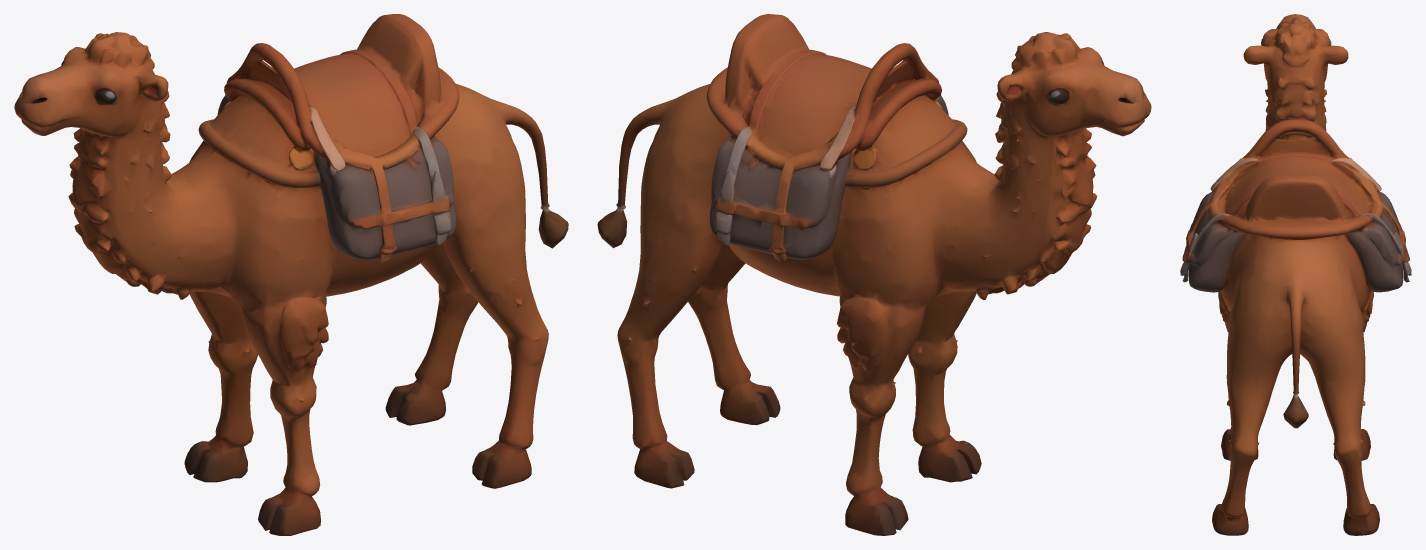
Rendered from camel.glb.
The picture shows the model from 3 angles, left to right: view 1: azimuth 30°, elevation 25°; view 2: azimuth 150°, elevation 25°; view 3: azimuth 270°, elevation 25°; orthographic projection. The views are drawn at different scales.
Parts seen in each view (by area): view 1: tripo_node_62d40a25-1c22-4a0d-becd-0e6309f8350a; view 2: tripo_node_62d40a25-1c22-4a0d-becd-0e6309f8350a; view 3: tripo_node_62d40a25-1c22-4a0d-becd-0e6309f8350a.
Boxes of the visible parts, left/top/right/bottom form: tripo_node_62d40a25-1c22-4a0d-becd-0e6309f8350a: left=14, top=14, right=568, bottom=535; tripo_node_62d40a25-1c22-4a0d-becd-0e6309f8350a: left=597, top=14, right=1151, bottom=535; tripo_node_62d40a25-1c22-4a0d-becd-0e6309f8350a: left=1180, top=14, right=1411, bottom=535.
Size of the model in its own units: 1 by 0.8712 by 0.4812.
Materials: 1 (1 with a texture image).
